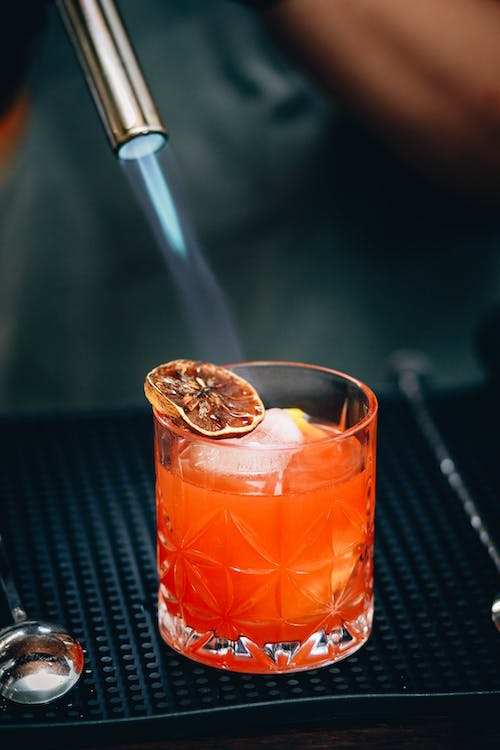alcohol: (148, 358, 379, 675)
